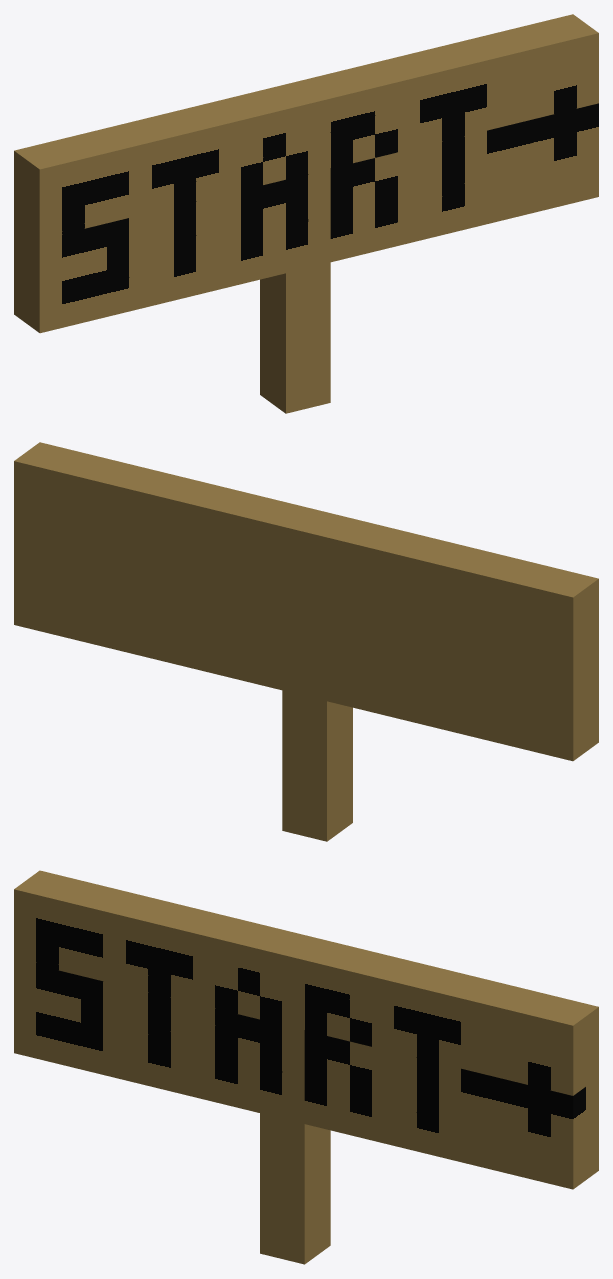
File: start.dae
3 views of the same model, one above another, from view 1: azimuth 30°, elevation 25°; view 2: azimuth 150°, elevation 25°; view 3: azimuth 330°, elevation 25° (orthographic).
Parts seen in each view (by area): view 1: panneau_start; view 2: panneau_start; view 3: panneau_start.
Boxes of the visible parts, <box> form: panneau_start: <box>14,14,598,413</box>; panneau_start: <box>14,442,598,841</box>; panneau_start: <box>14,870,598,1264</box>.
Size of the model in its own units: 25 by 13 by 2.
1 material, 1 textured.
